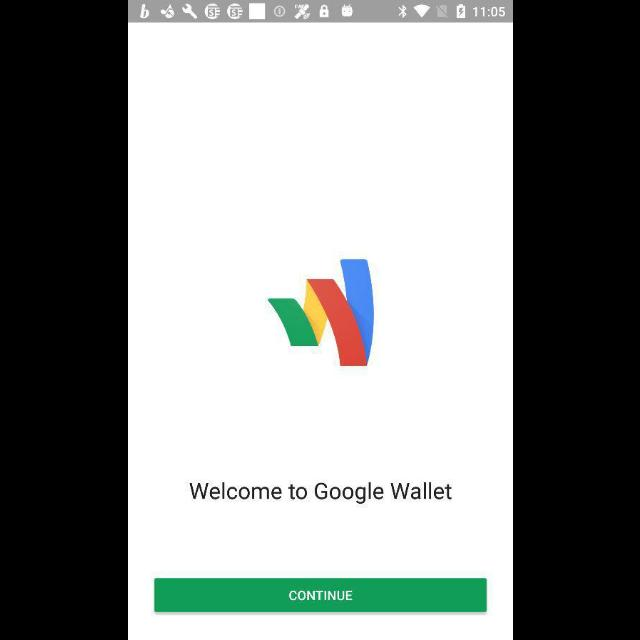image: (266, 259, 374, 367)
text: (188, 482, 452, 504)
textbutton: (154, 578, 486, 612)
uppertaskbar: (128, 1, 512, 23)
